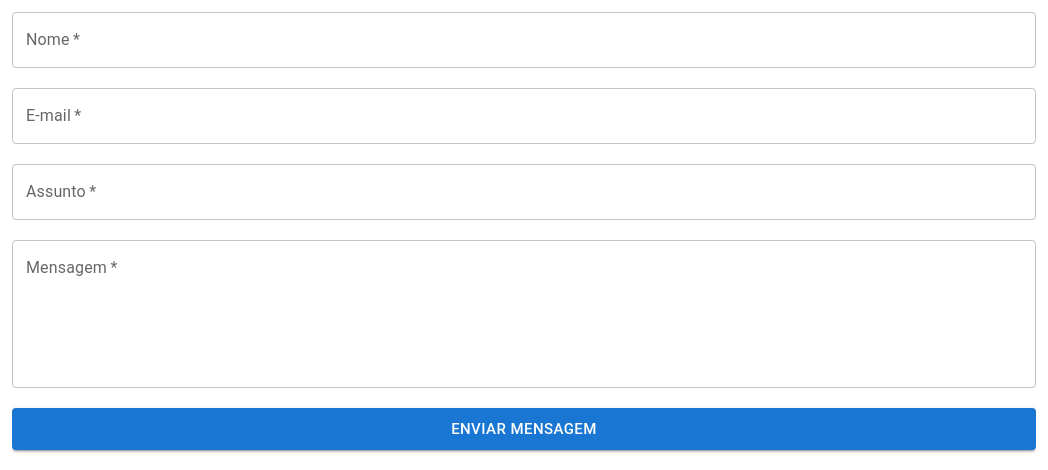
Test: ContactForm › submission › shows success message after submission completes
This screenshot has width=1048, height=470.
Type "João Silva" into the field labelled "Nome *".
click(524, 40); type("João Silva")  # box [12,12,1036,68]
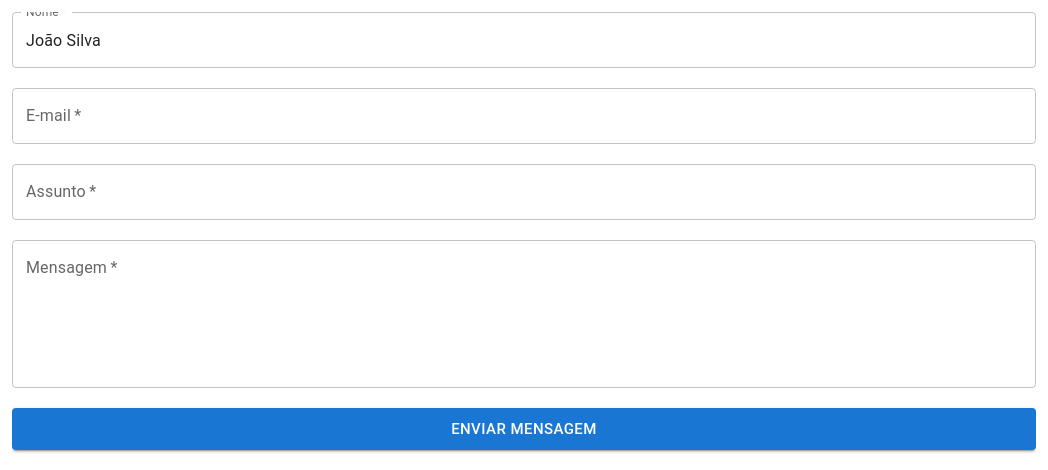
Type "joao@example.com" into the field labelled "E-mail *".
click(524, 116); type("joao@example.com")  # box [12,88,1036,144]
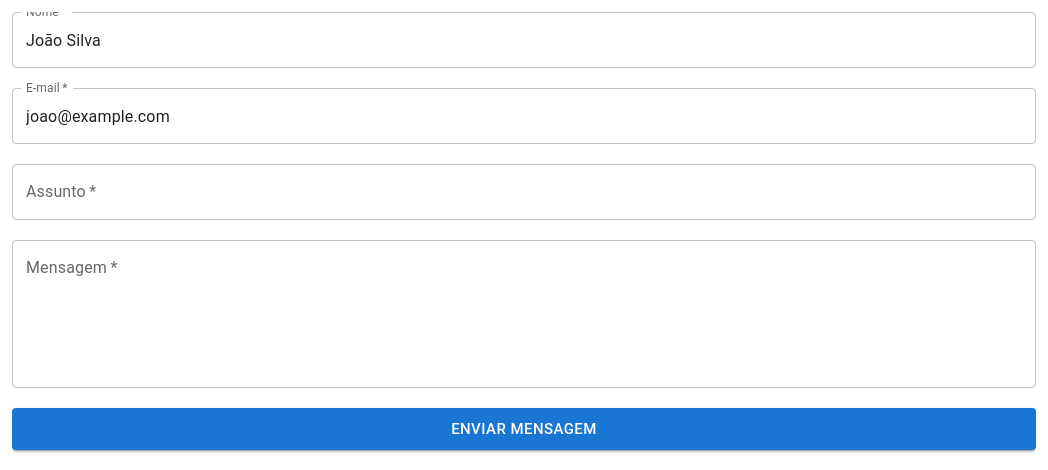
Type "Dúvida" into the field labelled "Assunto *".
click(524, 192); type("Dúvida")  # box [12,164,1036,220]
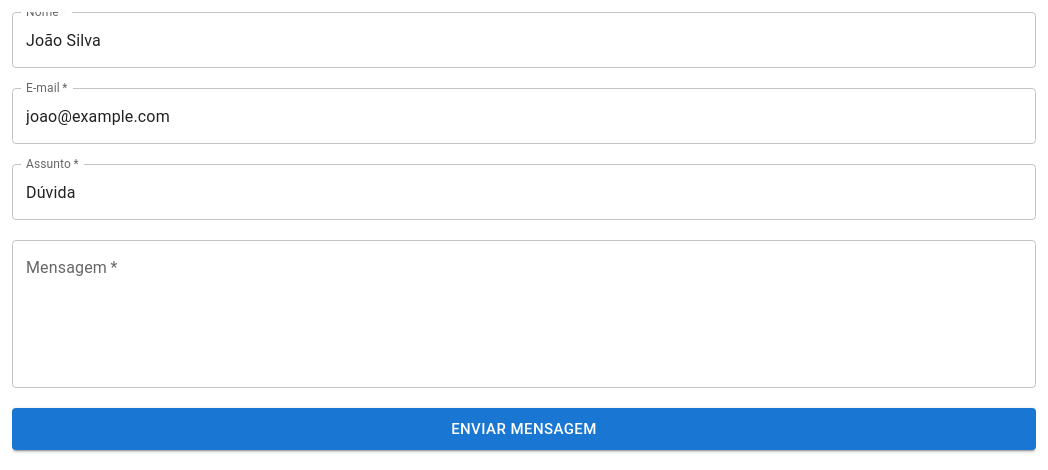
Type "Gostaria de saber mais informações." into the text box labelled "Mensagem *".
click(524, 314); type("Gostaria de saber mais informações.")  # box [26,256,1022,372]
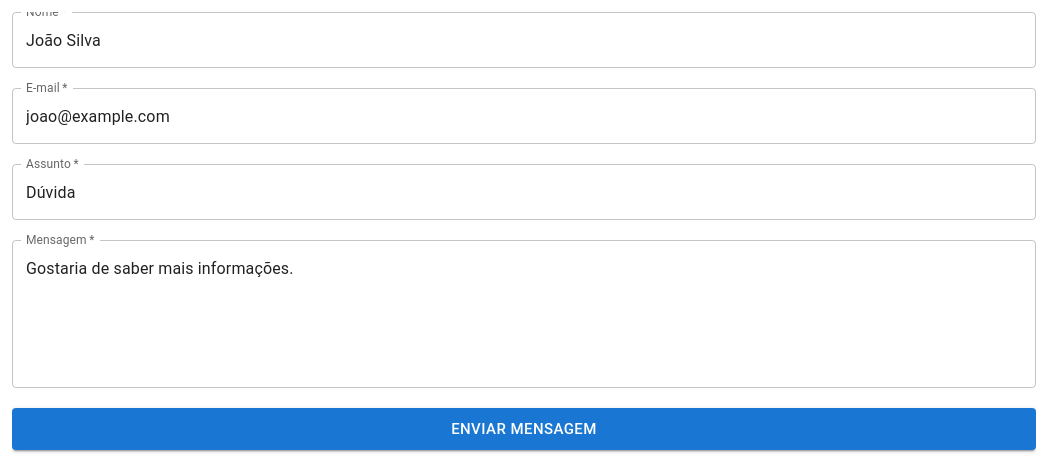
Click the button "Enviar mensagem".
click(524, 429)  # box [12,408,1036,450]
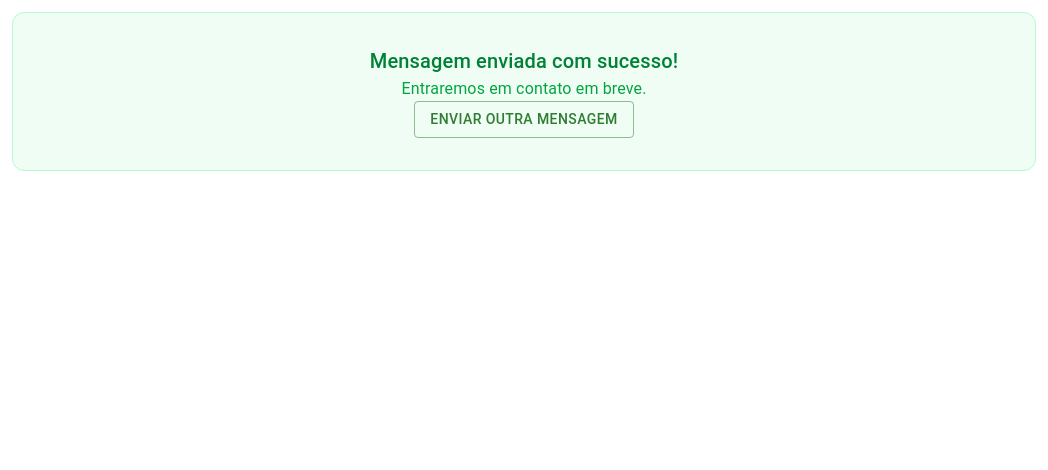
Check: the heading "Mensagem enviada com sucesso!" is shown, box [370,49,678,73]
